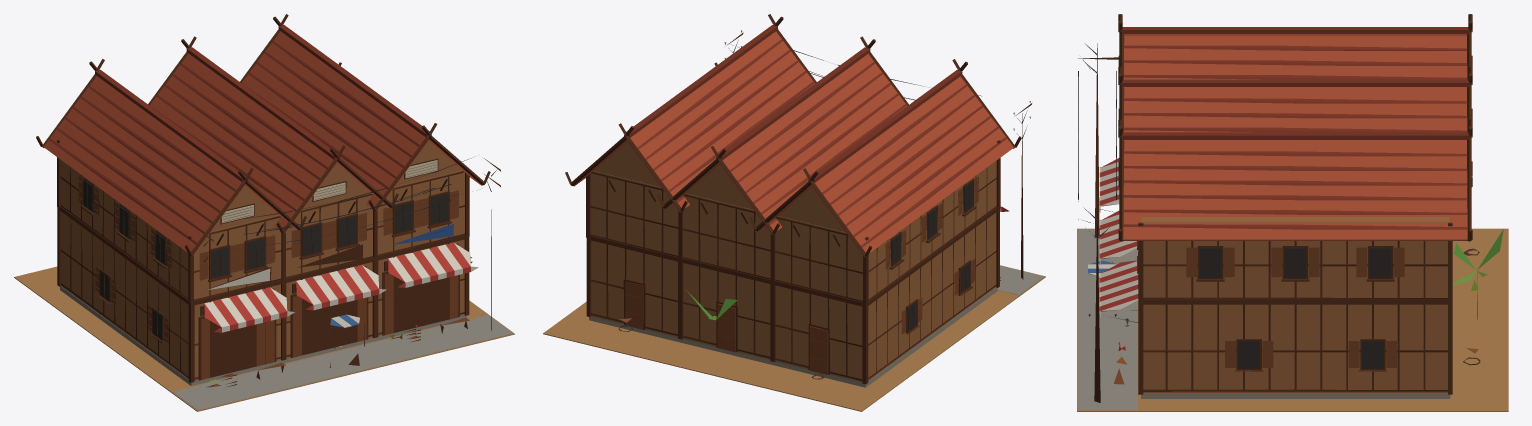
The model's file is shop_3.glb.
The picture shows the model from 3 angles, left to right: view 1: azimuth 30°, elevation 25°; view 2: azimuth 150°, elevation 25°; view 3: azimuth 270°, elevation 25°; orthographic projection. The views are drawn at different scales.
Parts seen in each view (by area): view 1: body, windows; view 2: body, windows; view 3: body, windows.
Boxes of the visible parts, <box> form: body: <box>14,14,514,411</box>; windows: <box>83,179,471,338</box>; body: <box>543,14,1045,411</box>; windows: <box>891,180,973,330</box>; body: <box>1077,14,1508,411</box>; windows: <box>1126,247,1391,368</box>.
Size of the model in its own units: 15.9 by 10.2 by 16.33.
